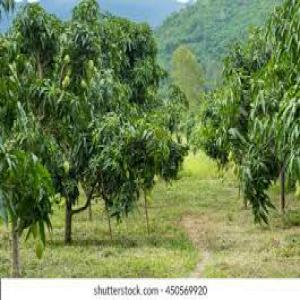Tree: (5, 5, 190, 256), (197, 2, 299, 229)
